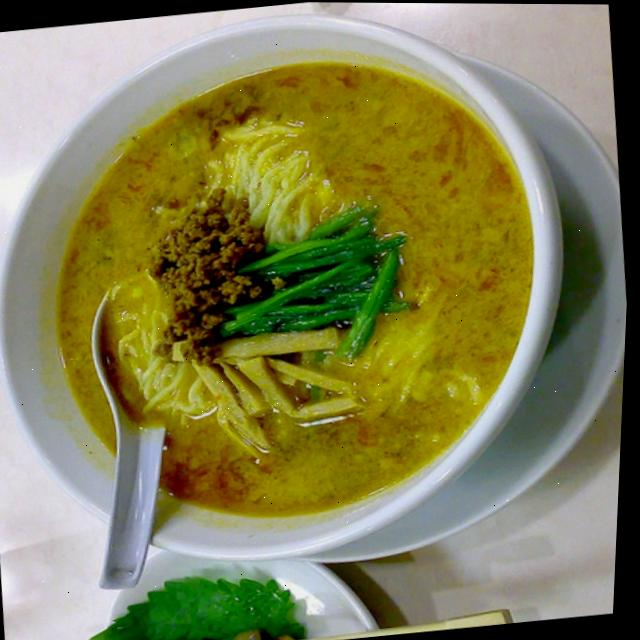面条主食: (0, 0, 623, 620)
